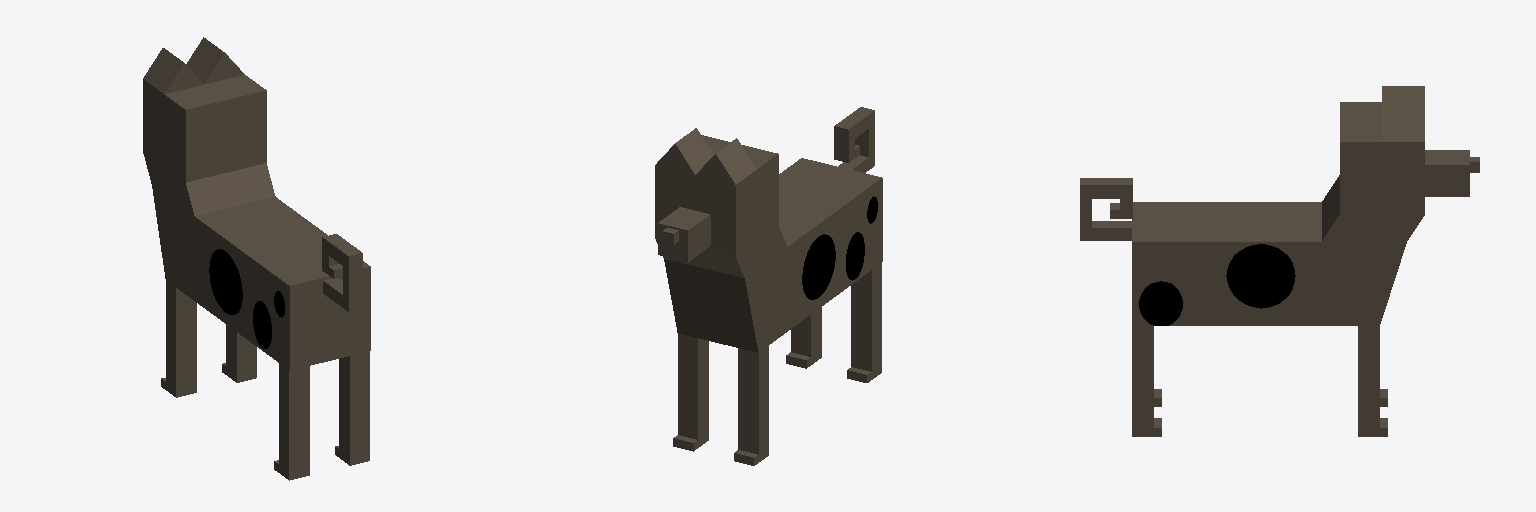
3 views of the same model, side by side, from view 1: azimuth 30°, elevation 25°; view 2: azimuth 150°, elevation 25°; view 3: azimuth 270°, elevation 25° (orthographic).
Visible parts, largest first — view 1: 立方体; view 2: 立方体; view 3: 立方体.
Part boxes in pixels (x1,y1,x2,y2): 立方体: (143,37,370,480); 立方体: (655,107,882,465); 立方体: (1080,86,1479,436).
Size of the model in its own units: 0.5 by 1.9 by 2.14.
Materials: 1 (1 with a texture image).